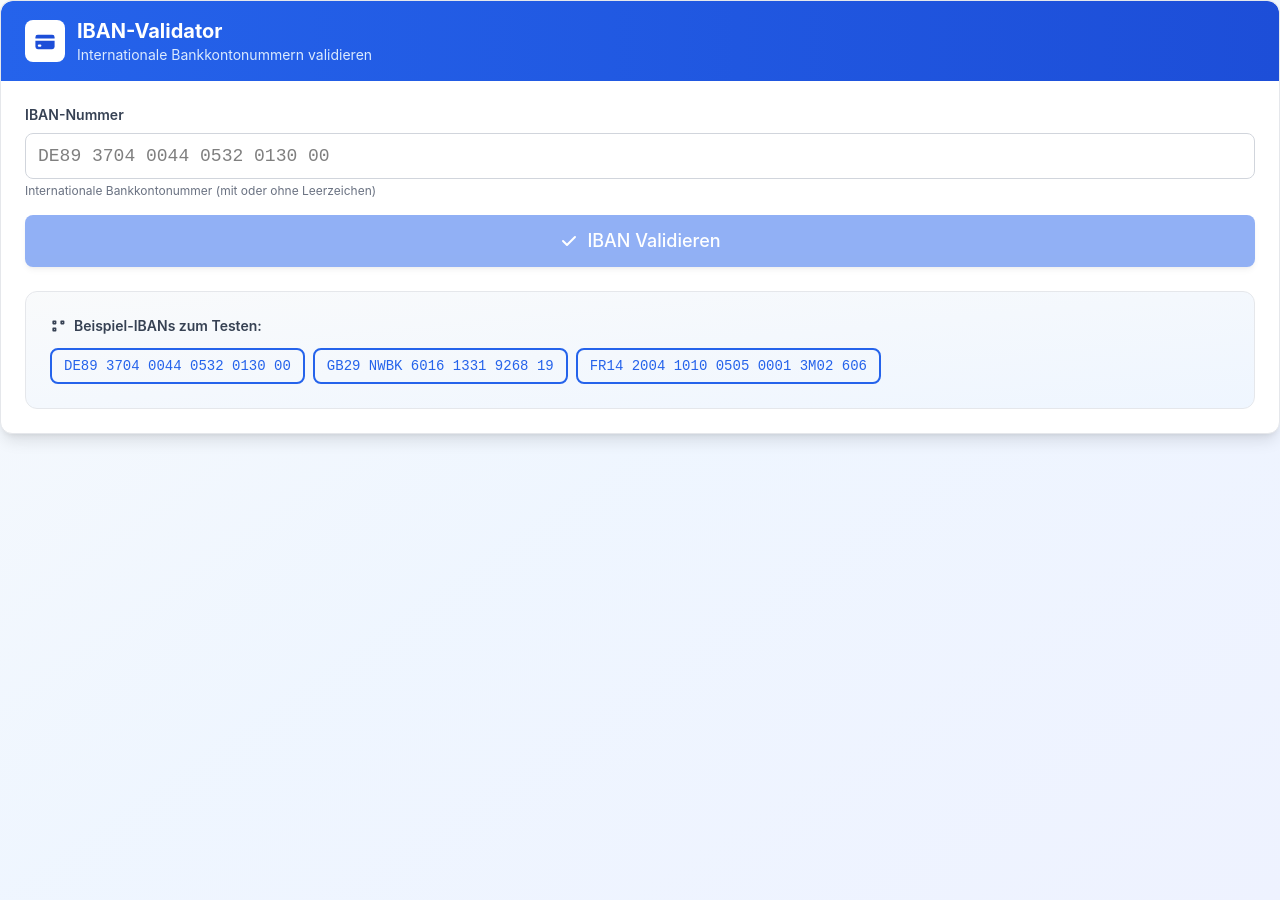
Test: IbanValidator Component › sollte Eingabe löschen
Type "DE89370400440532013000" into the field labelled "IBAN-Nummer" at x=640, y=156, box [25,133,1255,179]
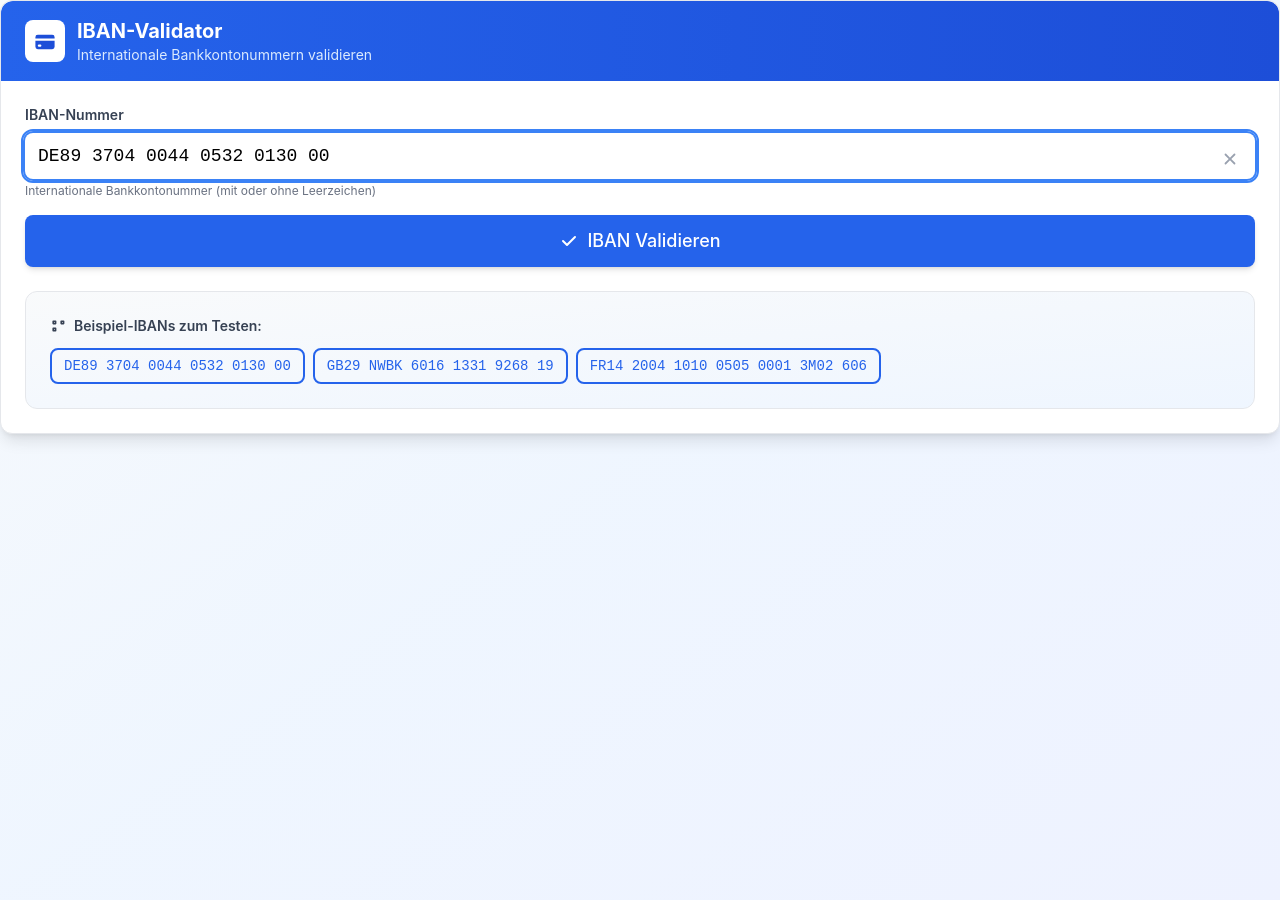
Result: the field labelled "IBAN-Nummer" holds "DE89 3704 0044 0532 0130 00" at [25,133,1255,179]
Click the button named "Eingabe löschen" at x=1230, y=157, box [1217,141,1243,173]
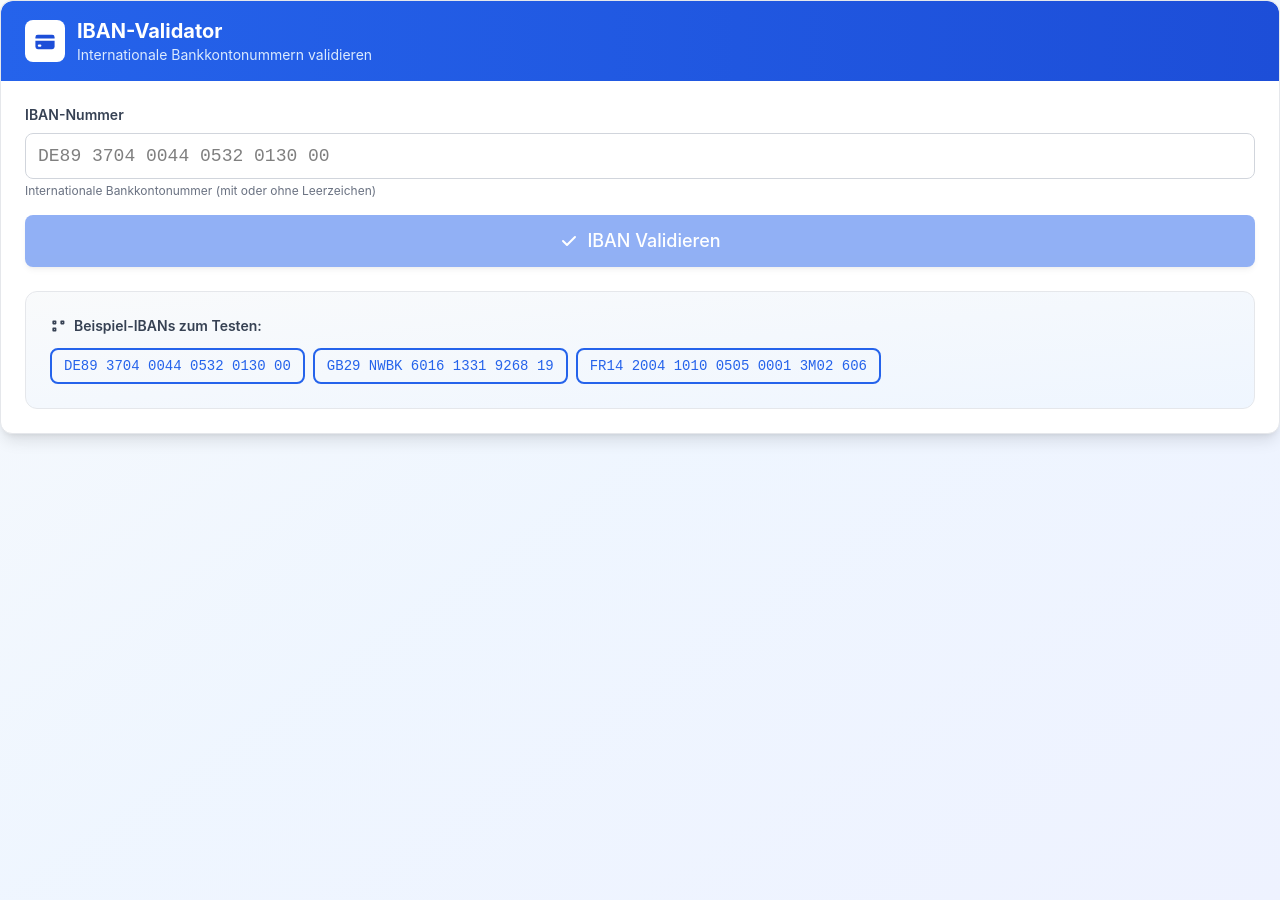
Result: the field labelled "IBAN-Nummer" is empty at [25,133,1255,179]
